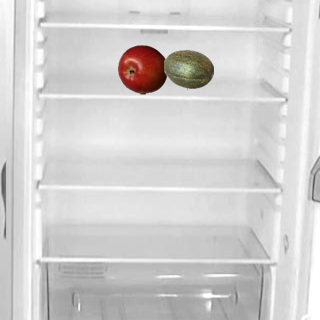Apple Braeburn: (117, 44, 167, 94)
Melon Piel de Sapo: (163, 44, 213, 94)
